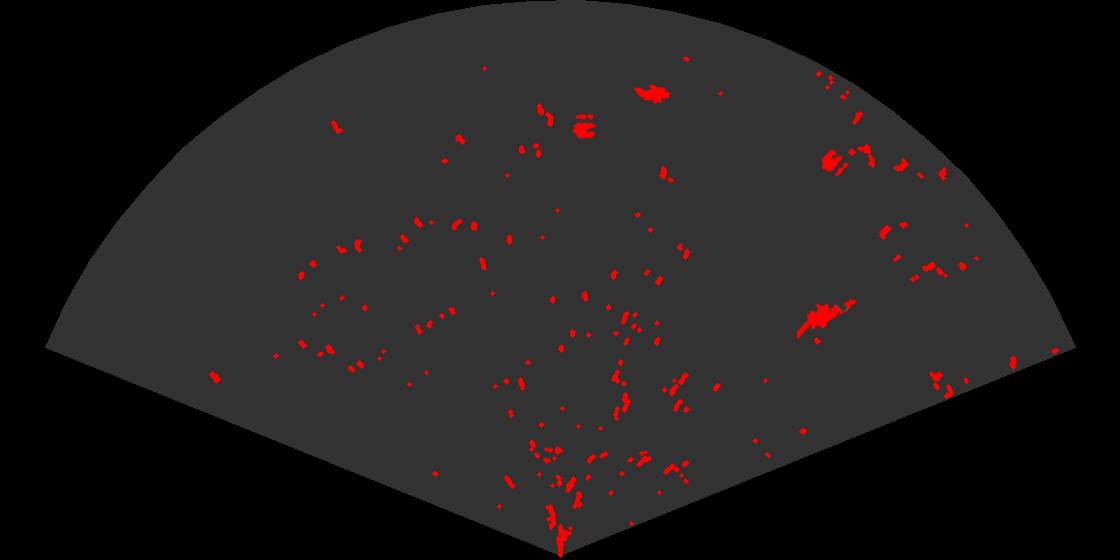AUV: (632, 83, 673, 106)
ball: (820, 148, 850, 178), (571, 113, 598, 140)
frogman: (797, 297, 858, 341)
